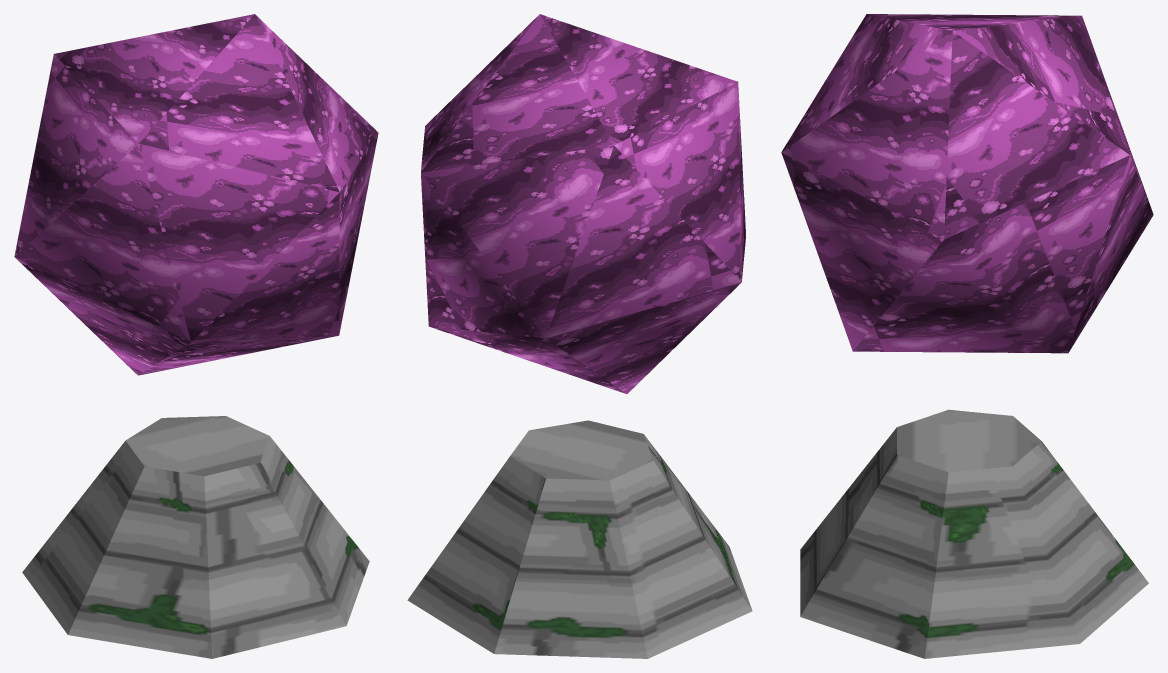
Rendered from crystalballunityattempt.fbx.
The picture shows the model from 3 angles, left to right: view 1: azimuth 30°, elevation 25°; view 2: azimuth 150°, elevation 25°; view 3: azimuth 270°, elevation 25°; orthographic projection. The views are drawn at different scales.
Parts seen in each view (by area): view 1: Icosphere.002; view 2: Icosphere.002; view 3: Icosphere.002.
Part boxes in pixels (x1,y1,x2,y2): Icosphere.002: (14, 14, 378, 658); Icosphere.002: (407, 14, 752, 658); Icosphere.002: (781, 14, 1153, 658).
Size of the model in its own units: 1136 by 1236 by 1944.
2 materials, 2 textured.
